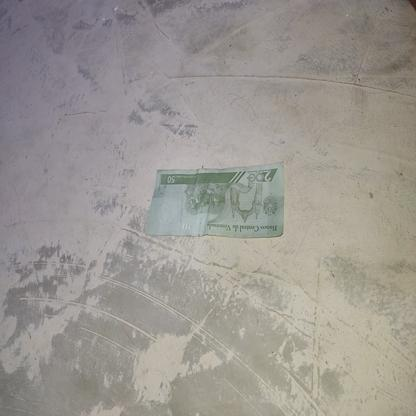fifty-back-vef: (144, 160, 286, 238)
